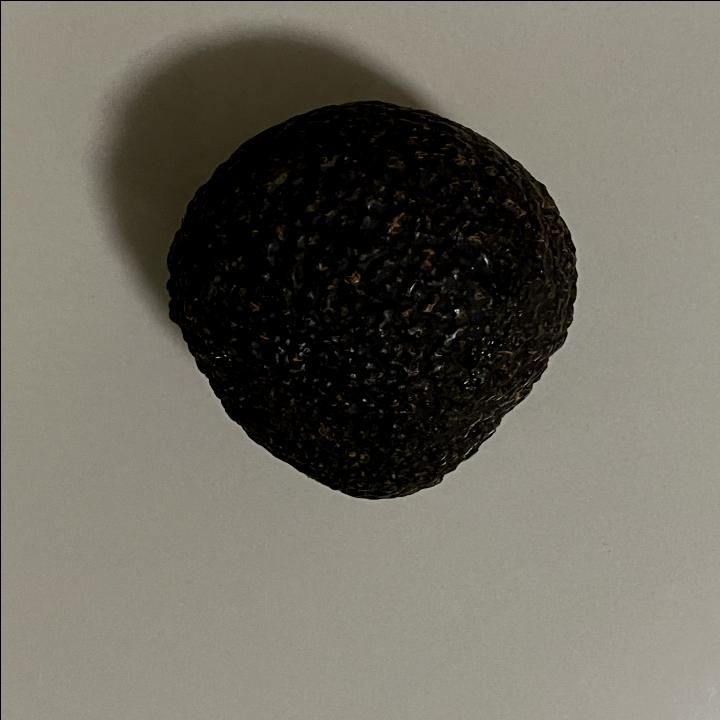Level1: (154, 92, 596, 514)
